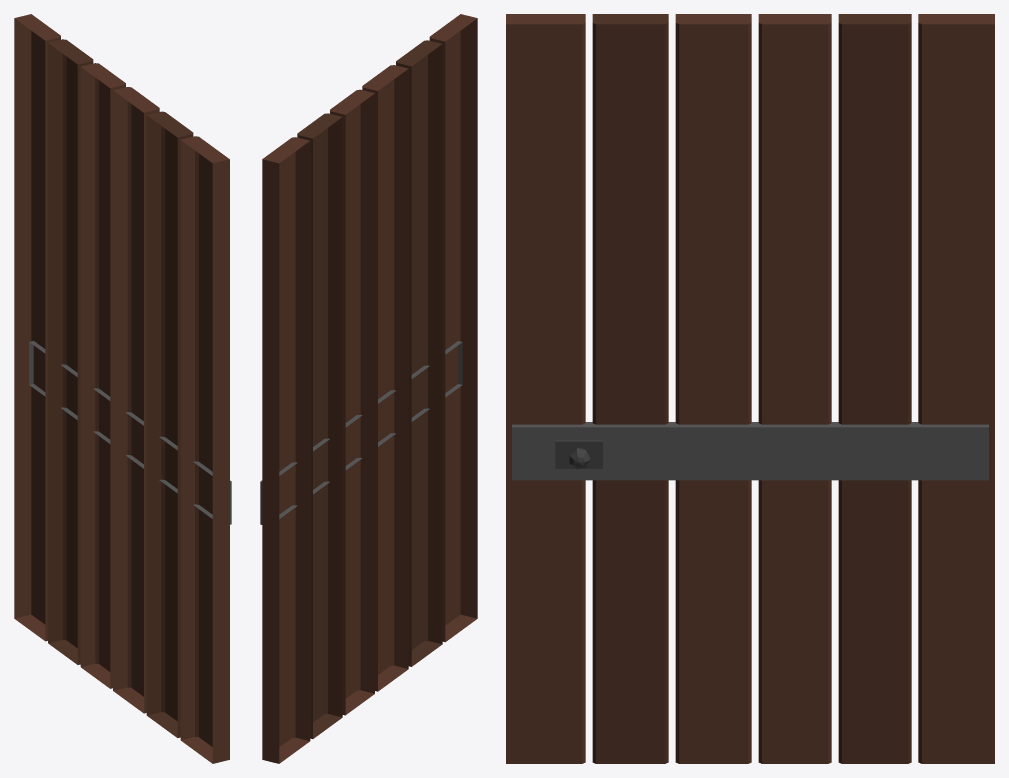
The model's file is Door.fbx.
The picture shows the model from 3 angles, left to right: view 1: azimuth 30°, elevation 25°; view 2: azimuth 150°, elevation 25°; view 3: azimuth 270°, elevation 25°; orthographic projection. The views are drawn at different scales.
Visible parts, largest first — view 1: Door; view 2: Door; view 3: Door.
Boxes of the visible parts, <box> form: Door: <box>14,14,231,763</box>; Door: <box>260,14,477,763</box>; Door: <box>506,14,994,763</box>.
Bounding box in the file's own units: 10.57 × 166 × 99.28.
